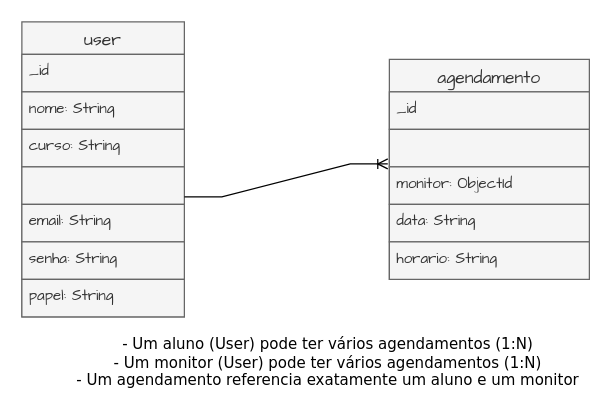
This 611x411 diagram has some shape labels left out. Here are the shapes that lost their labels. From the top down, the centre of each, then its label:
At point (488, 147): "aluno: ObjectId".
At point (102, 185): "ra: String".
